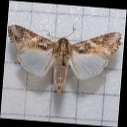Spodoptera litura: (5, 21, 121, 92)
